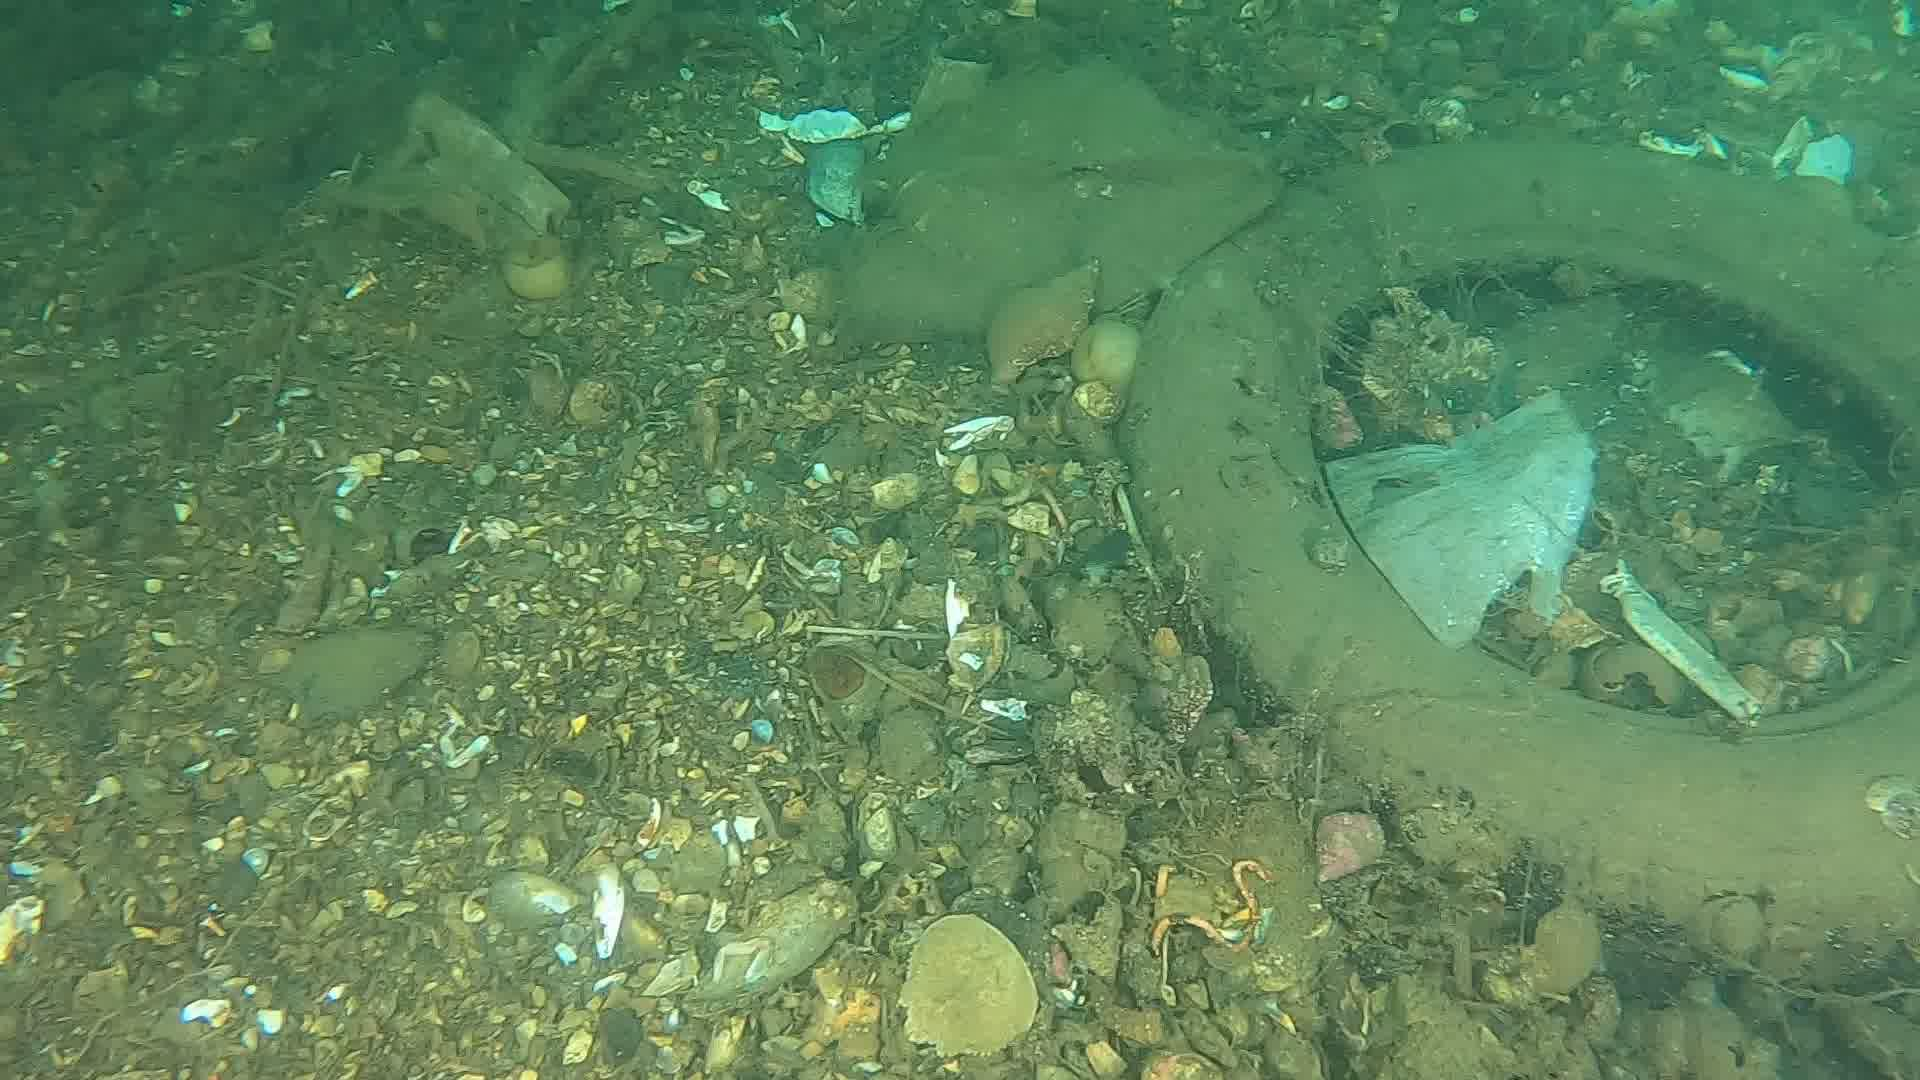tire: (1102, 127, 1920, 996)
